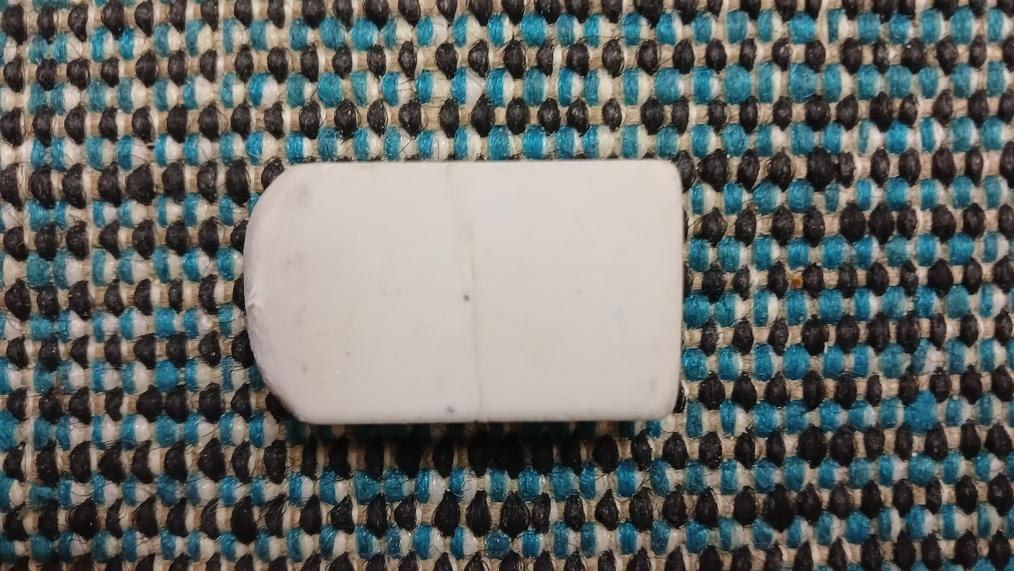Eraser: (246, 163, 688, 422)
